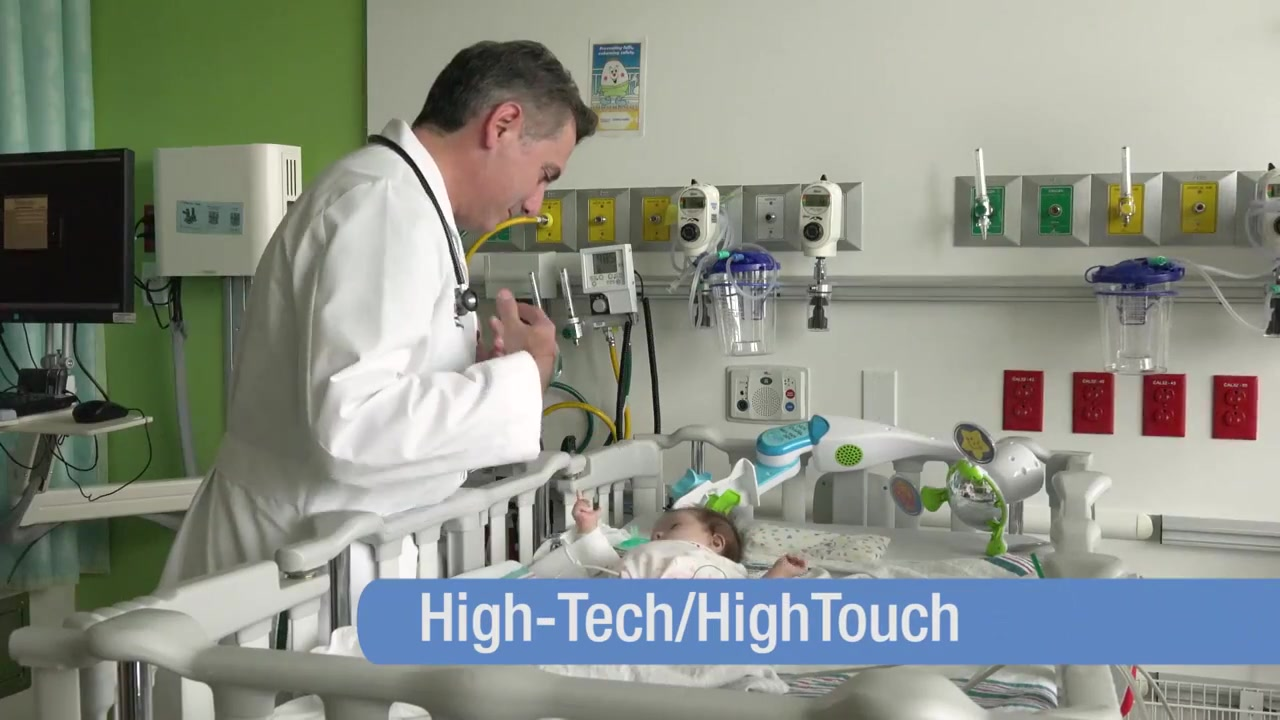bedrail: (7, 440, 665, 718)
computer: (1, 148, 138, 326)
curtain: (1, 1, 96, 150)
hospital_bed: (8, 418, 1113, 720)
mouse: (71, 400, 129, 424)
patient: (558, 489, 809, 580)
staff: (151, 40, 598, 718)
